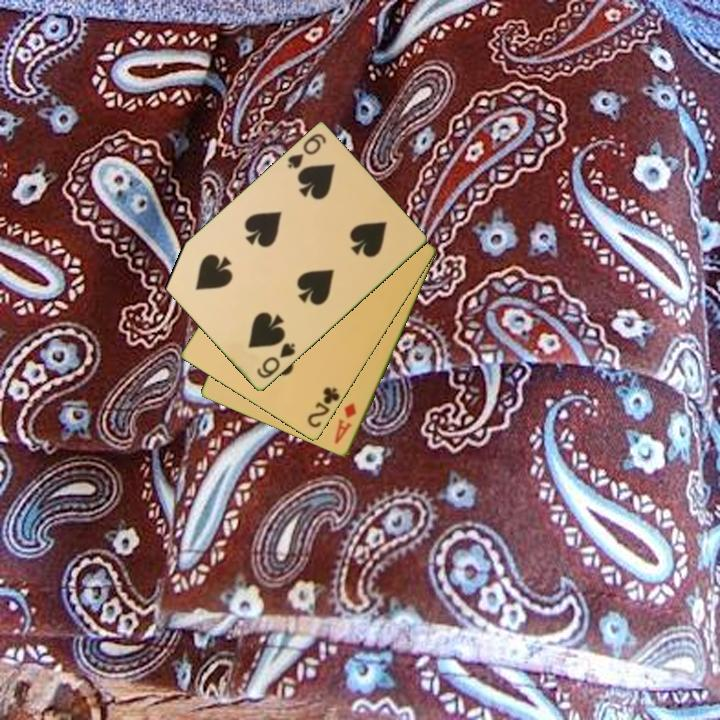2c: (304, 384, 343, 431)
6s: (253, 340, 298, 382), (284, 130, 329, 172)
Ad: (331, 399, 360, 447)
